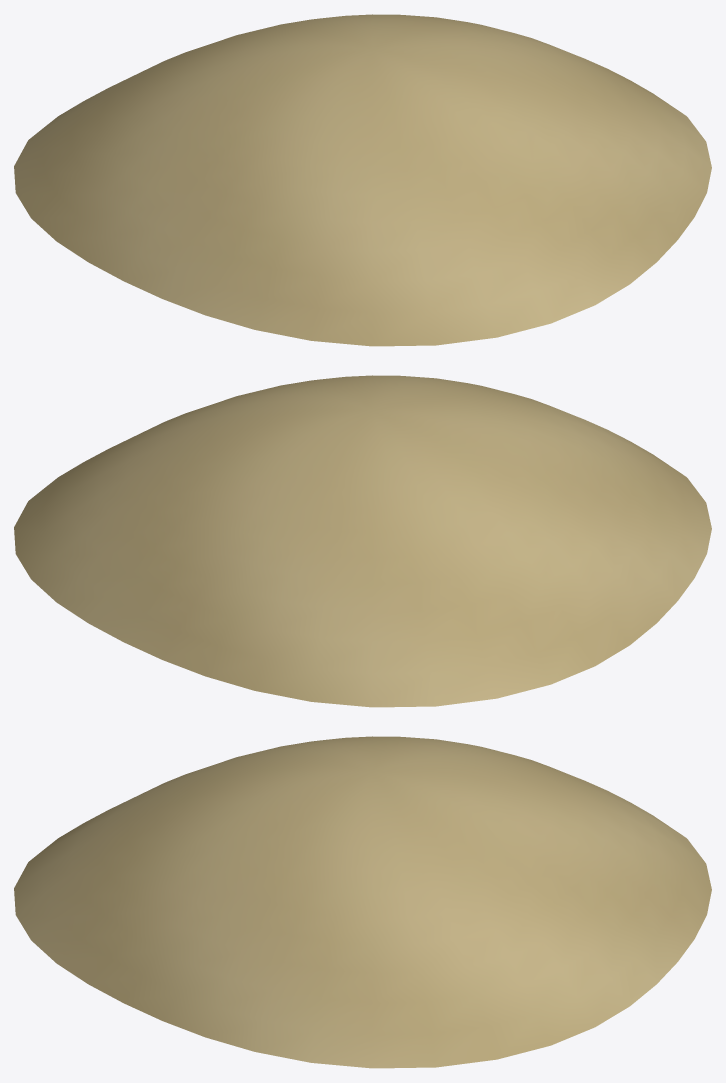
The model's file is Park_SandMound.fbx.
3 renders of one model, top to bottom at view 1: azimuth 30°, elevation 25°; view 2: azimuth 150°, elevation 25°; view 3: azimuth 270°, elevation 25°, orthographic.
Visible parts, largest first — view 1: Park_SandMound; view 2: Park_SandMound; view 3: Park_SandMound.
Boxes of the visible parts, x1=… form: Park_SandMound: x1=14, y1=14, x2=711, y2=346; Park_SandMound: x1=14, y1=375, x2=711, y2=707; Park_SandMound: x1=14, y1=736, x2=711, y2=1068.
Bounding box in the file's own units: 14.06 × 3.2 × 14.14.
